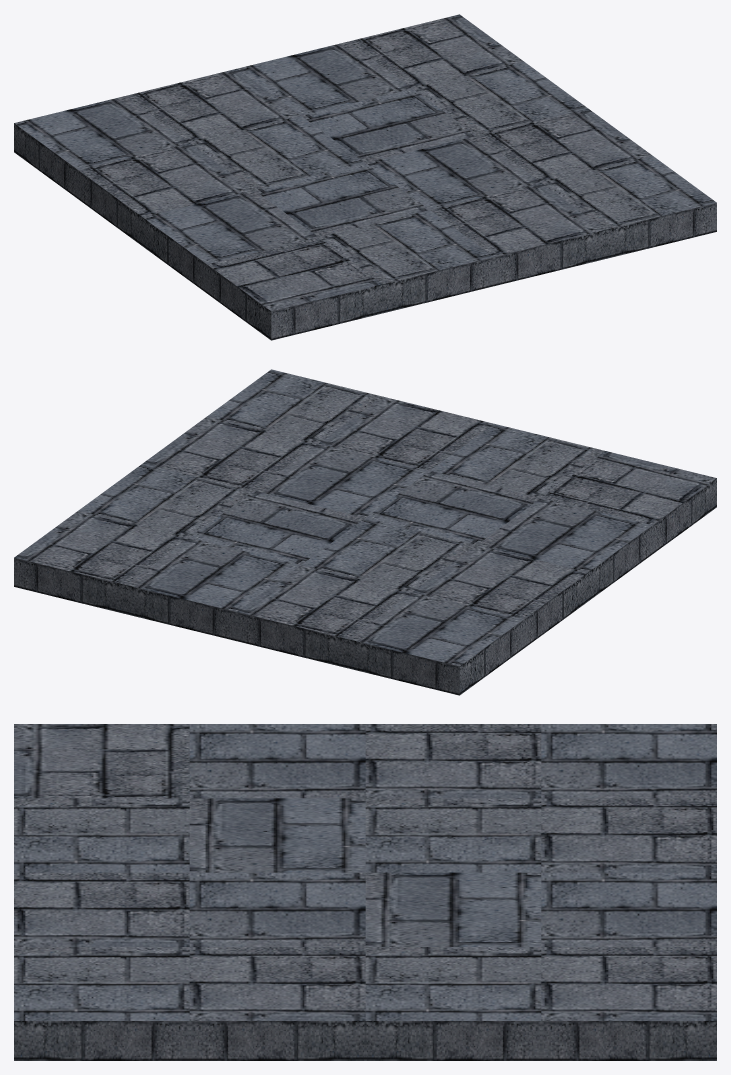
The model's file is block.FBX.
3 renders of one model, top to bottom at view 1: azimuth 30°, elevation 25°; view 2: azimuth 150°, elevation 25°; view 3: azimuth 270°, elevation 25°, orthographic. The views are drawn at different scales.
Parts seen in each view (by area): view 1: BB_16x16x1; view 2: BB_16x16x1; view 3: BB_16x16x1.
Boxes of the visible parts, x1,y1,x2,y2 form: BB_16x16x1: (14, 14, 716, 340); BB_16x16x1: (14, 369, 716, 695); BB_16x16x1: (14, 724, 716, 1060).
Bounding box in the file's own units: 1600 × 100 × 1600.
